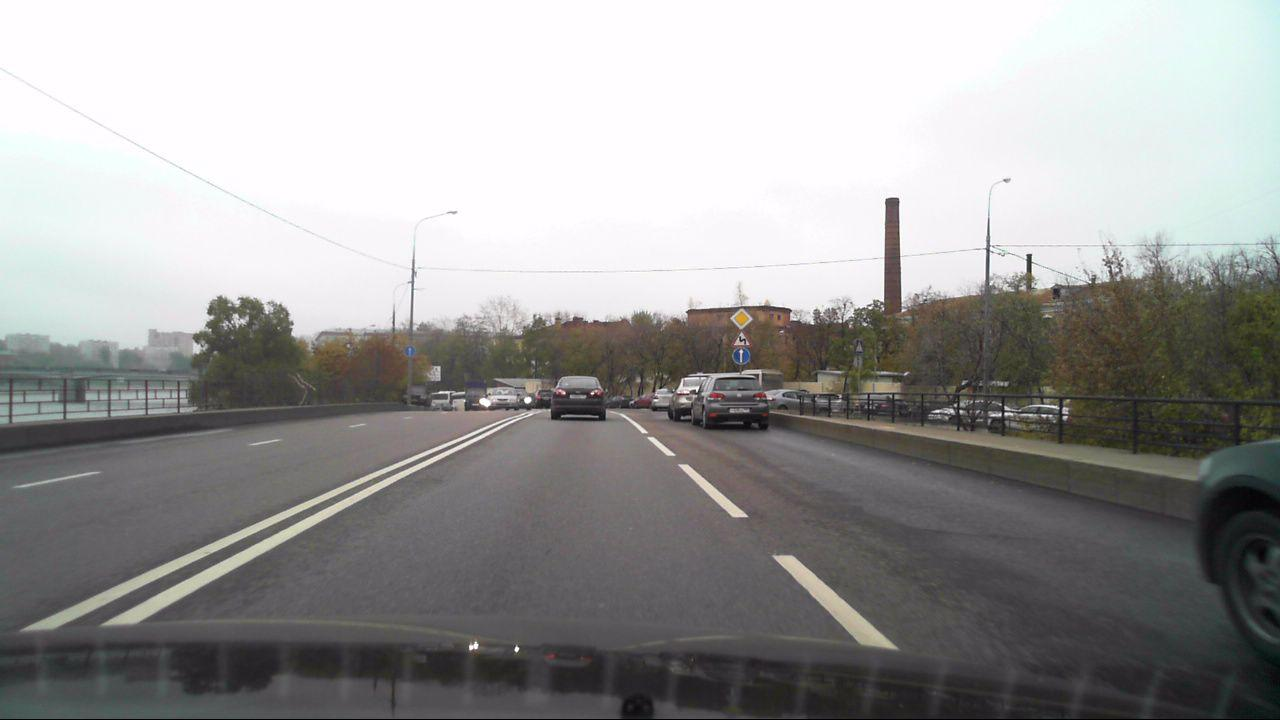road_sign: (730, 309, 753, 330), (730, 330, 753, 349), (731, 347, 751, 365), (403, 345, 416, 357)
